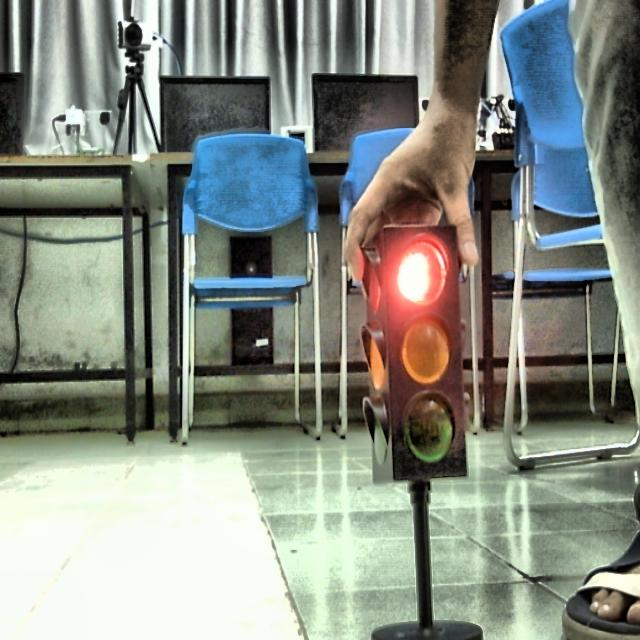red: (393, 233, 455, 310)
